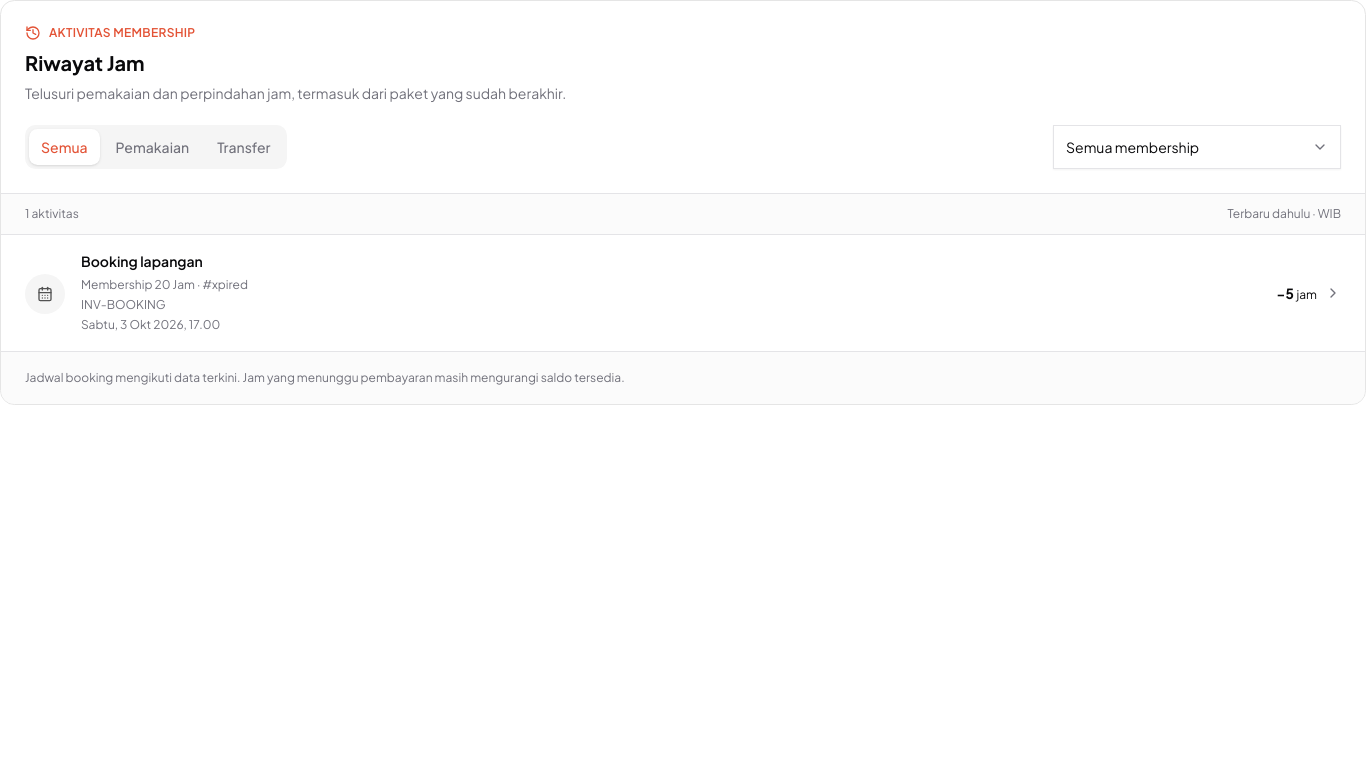
it: membership hour history › shows one invoice debit and preserves every court schedule in its detail
Expected: the text "1 aktivitas" is shown, 25,206 -> 79,222
Expected: the text "−5" is shown, 1276,283 -> 1317,303
Click the button "Booking lapangan" at (683, 293), box 1,235 -> 1365,351
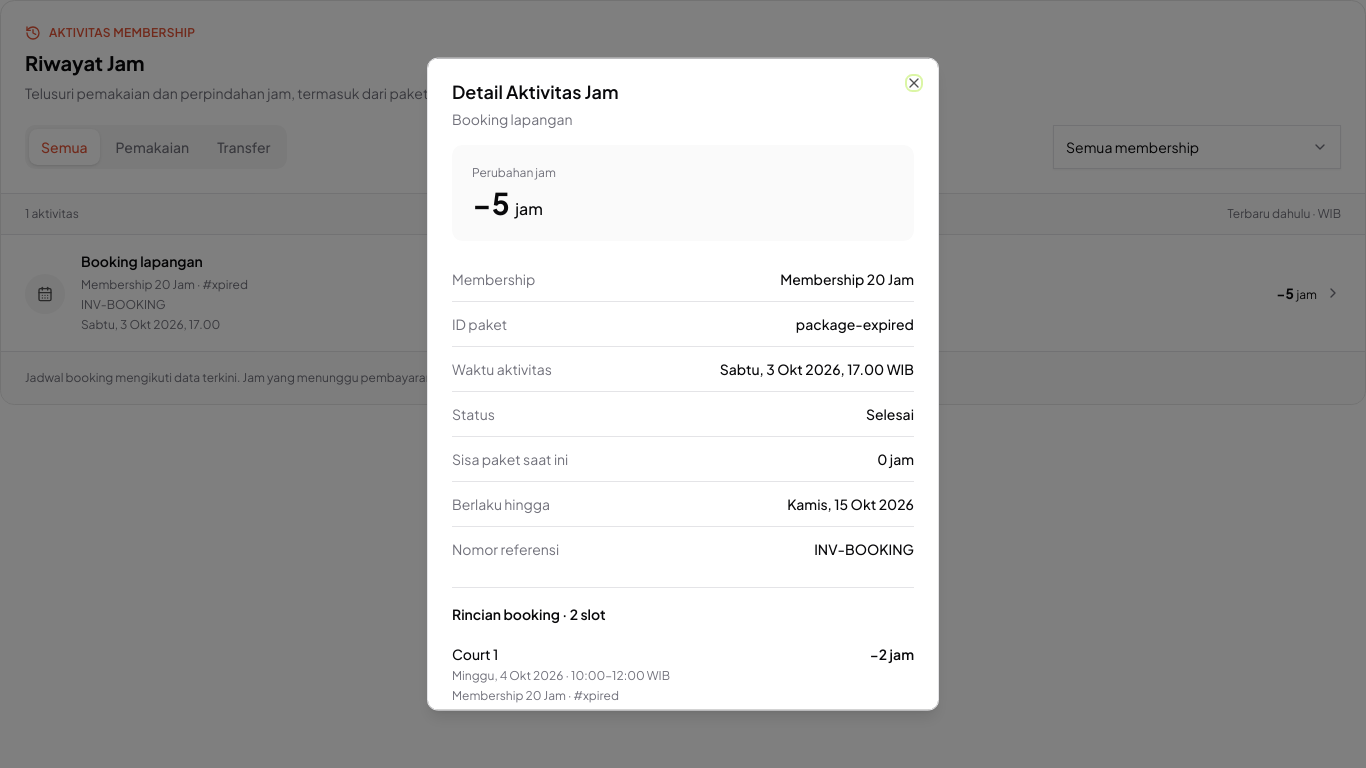
Expected: the text "INV-BOOKING" is shown, 814,540 -> 914,558
Expected: the text "Court 1" is shown, 452,645 -> 498,663
Expected: the text "Minggu, 4 Okt 2026 · 10:00–12:00 WIB" is shown, 452,668 -> 670,683
